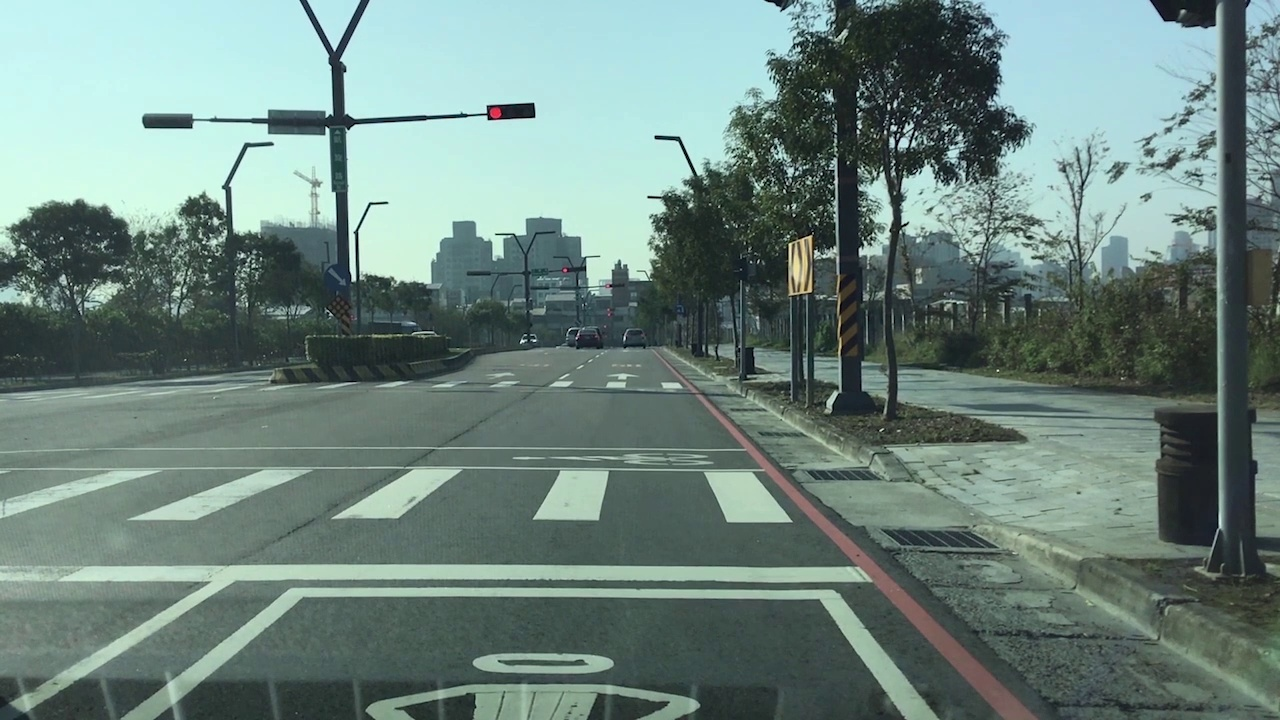Pedestrian_Crossing: (0, 464, 777, 528), (27, 374, 680, 391)
